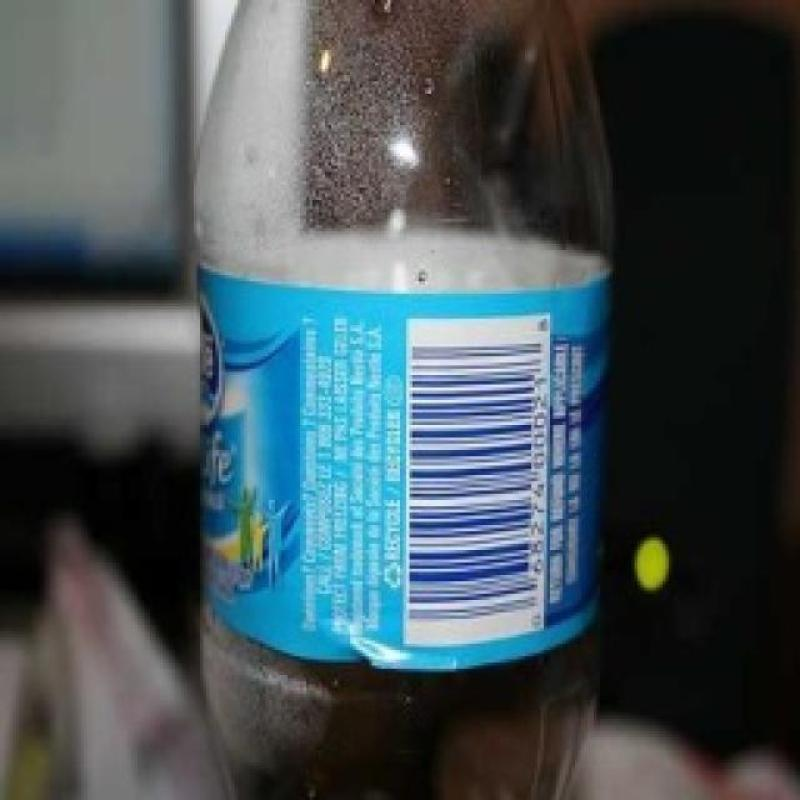botella: (186, 0, 616, 800)
